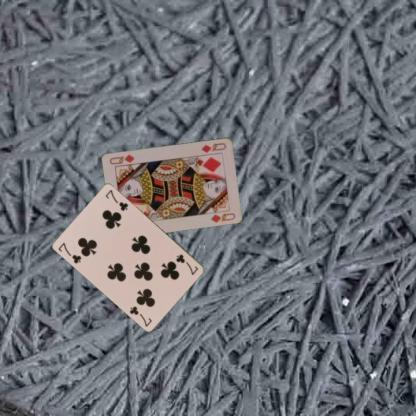7c: (173, 252, 200, 276), (56, 240, 83, 264)
Qd: (198, 140, 228, 154)
